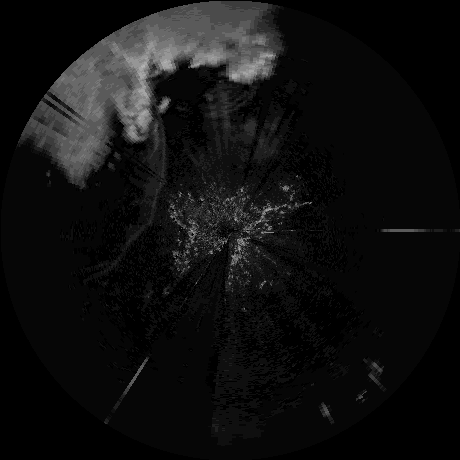frontgust: (112, 105, 164, 260)
